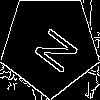N: (25, 19, 81, 76)
